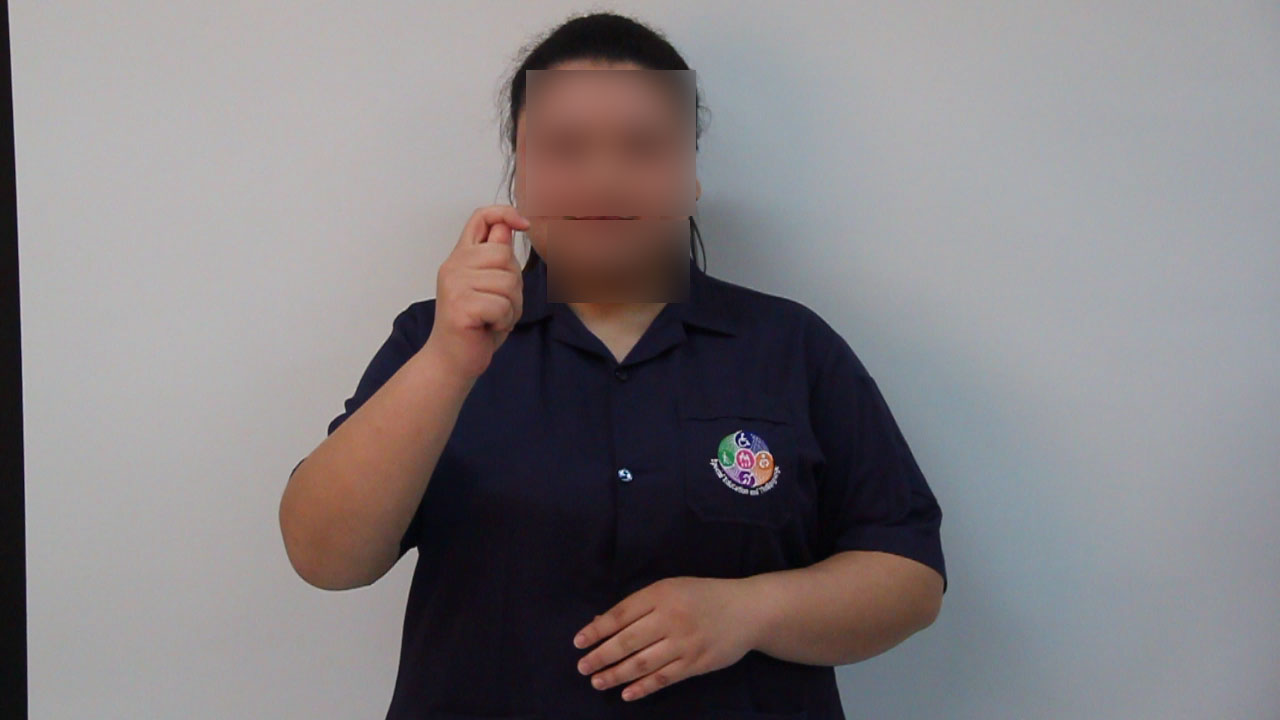or: (427, 200, 539, 370)
